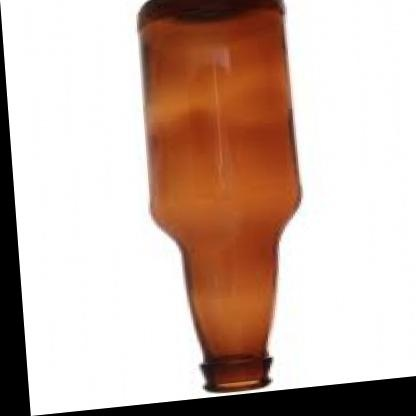trash: (138, 0, 300, 391)
